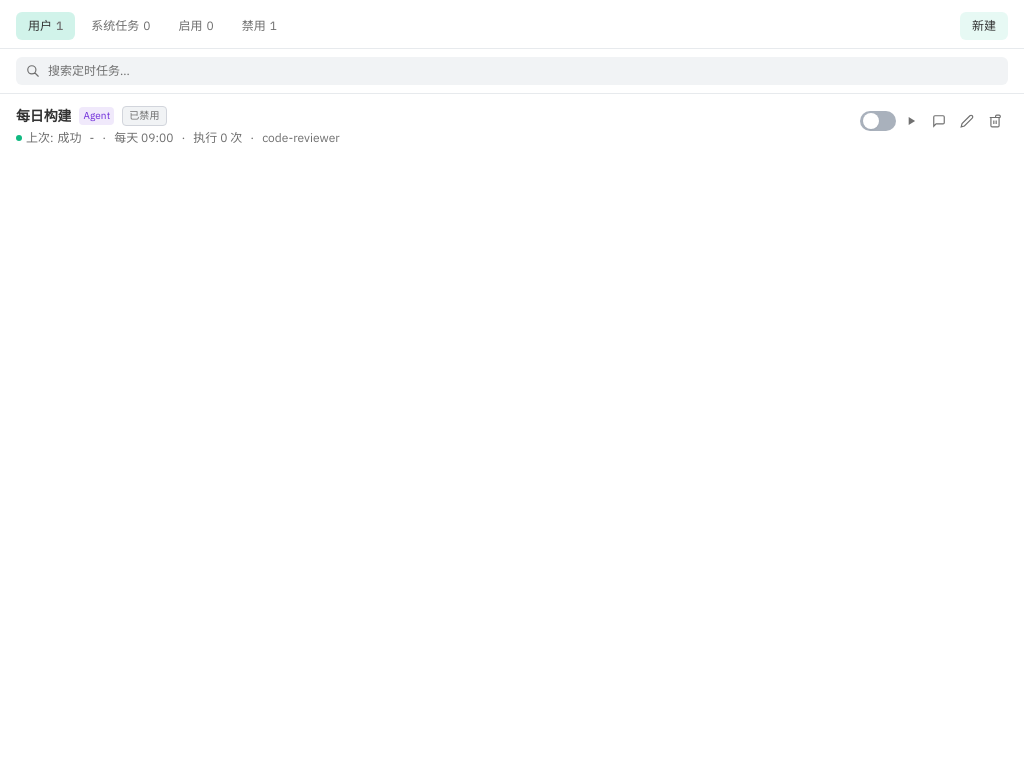
启用 / 禁用 —— 失败有声，开关回到真实状态 › 启用失败：同样是「启用失败：<原因>」
Click the switch named "启用" at (878, 121), box [860,111,896,131]
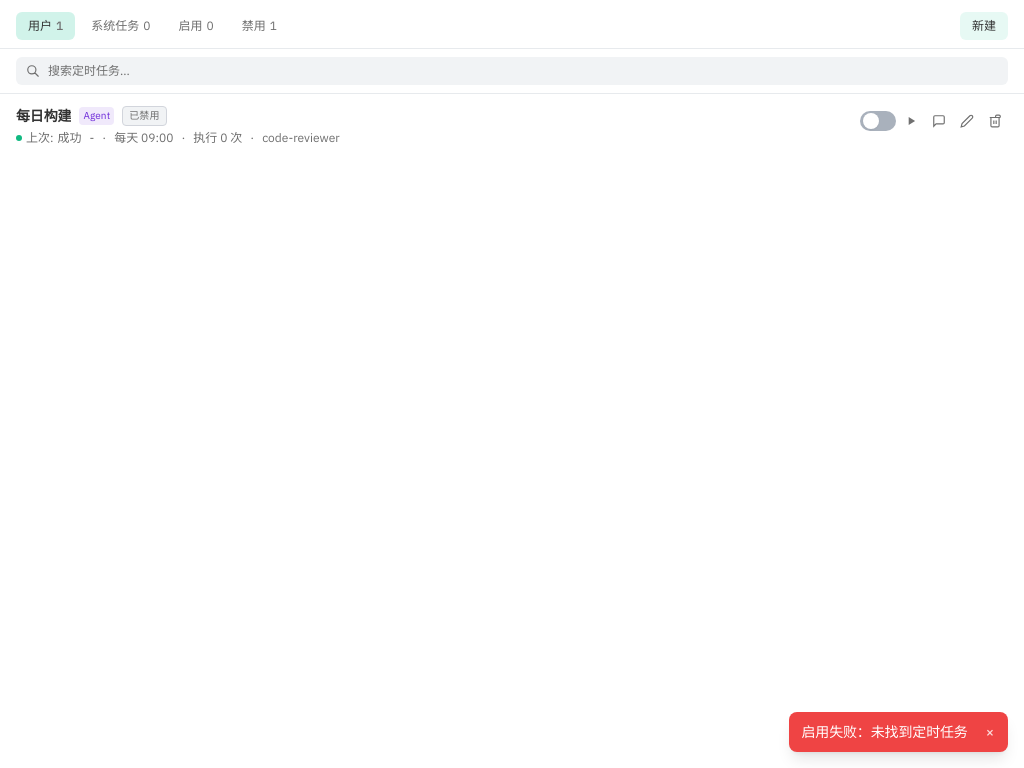
Check: the message shows "启用失败", box [801,723,968,741]
Check: the message shows "未找到定时任务", box [801,723,968,741]
